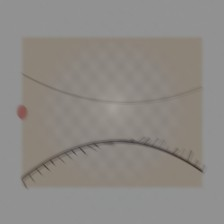pterygium_lesion: (162, 97, 201, 127)
